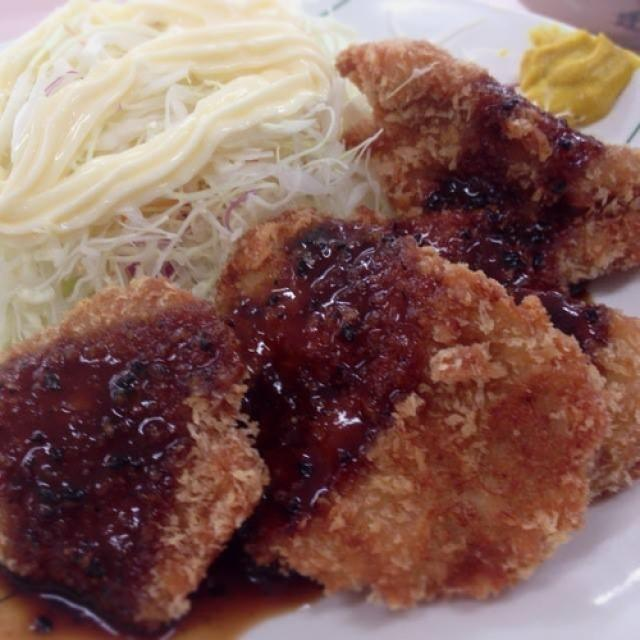牛肉菜式: (9, 13, 630, 623)
